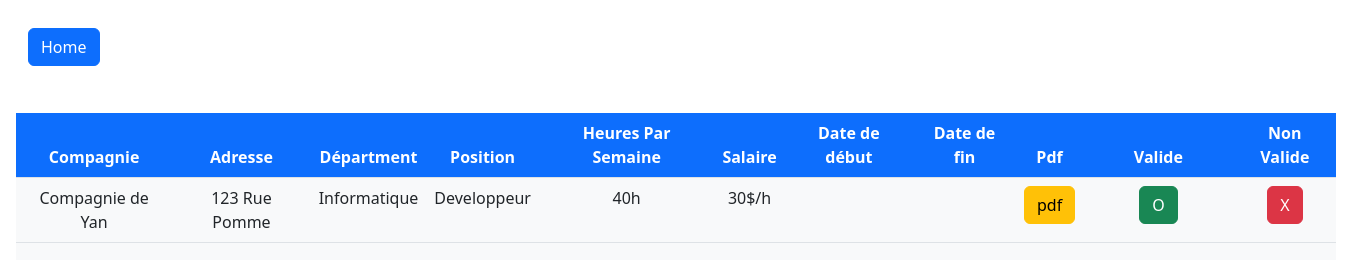
Test: OffresValidationPageTests › RefuseOfferTest
Click the button "X": (1285, 205) [1267,186,1302,224]
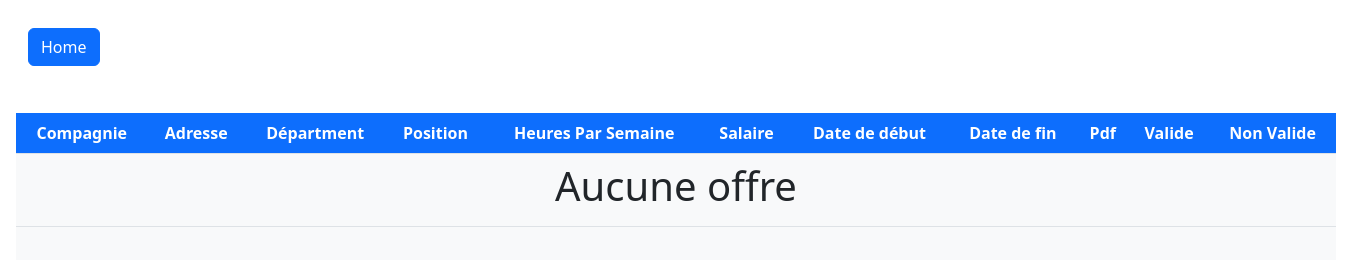
Check: the text "Compagnie de Yan" is gone
